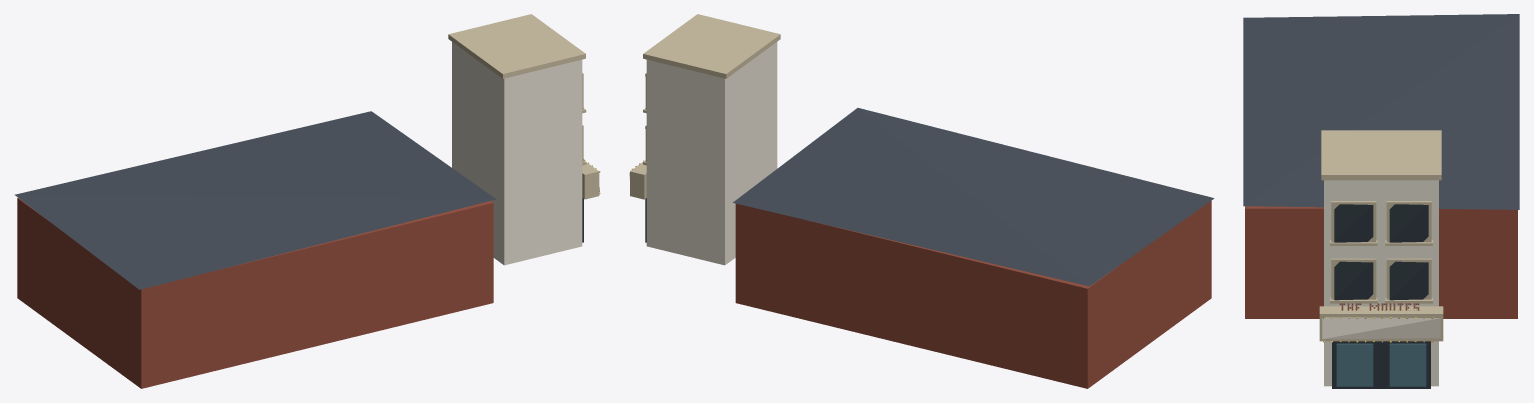
The model's file is the-movies.lod1.glb.
3 renders of one model, left to right at view 1: azimuth 30°, elevation 25°; view 2: azimuth 150°, elevation 25°; view 3: azimuth 270°, elevation 25°, orthographic. The views are drawn at different scales.
Visible parts, largest first — view 1: the-movies; view 2: the-movies; view 3: the-movies.
Boxes of the visible parts, <box> form: the-movies: <box>14,14,600,388</box>; the-movies: <box>629,14,1214,388</box>; the-movies: <box>1243,14,1519,388</box>.
Size of the model in its own units: 37.96 by 14.05 by 16.55.
